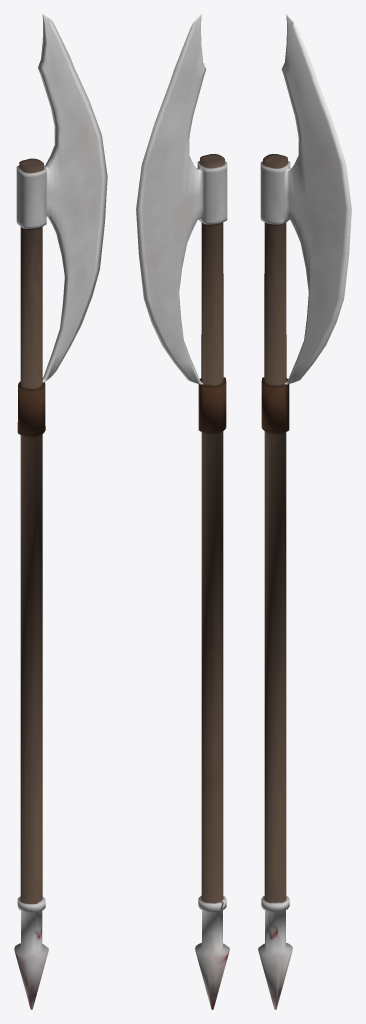
The picture shows the model from 3 angles, left to right: view 1: azimuth 30°, elevation 25°; view 2: azimuth 210°, elevation 25°; view 3: azimuth 330°, elevation 25°; orthographic projection.
Visible parts, largest first — view 1: bardiche; view 2: bardiche; view 3: bardiche.
Boxes of the visible parts, box(x1,y1,x2,y2) form: bardiche: box(14, 14, 107, 1009); bardiche: box(136, 14, 229, 1009); bardiche: box(258, 14, 351, 1009).
Size of the model in its own units: 1.41 by 14.85 by 0.5125.
1 material, 1 textured.
